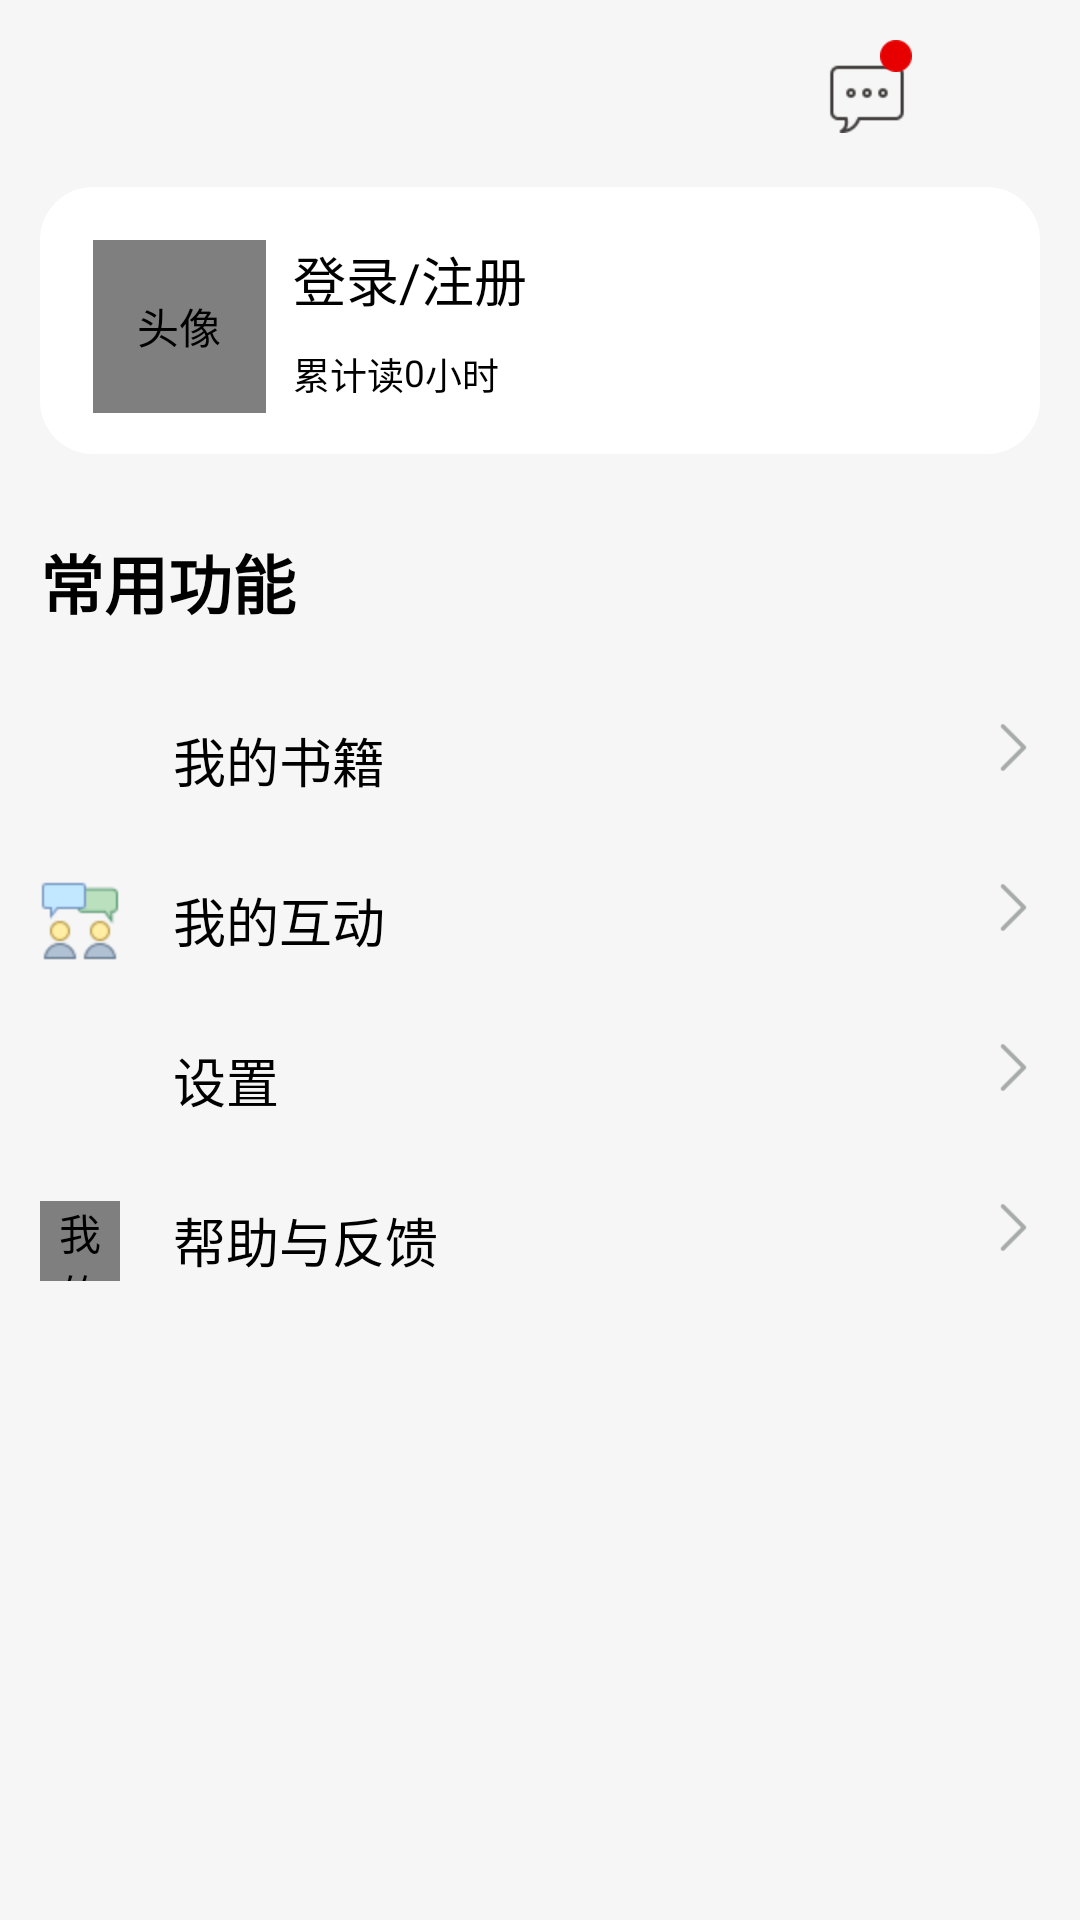

Where icons sit on this 1080x1920 app screen, as (x1, y1, x2, y2):
collaboration: (41, 882, 119, 960)
forward: (1001, 724, 1026, 771), (1001, 884, 1026, 931), (1001, 1044, 1026, 1091), (1001, 1204, 1026, 1251)
